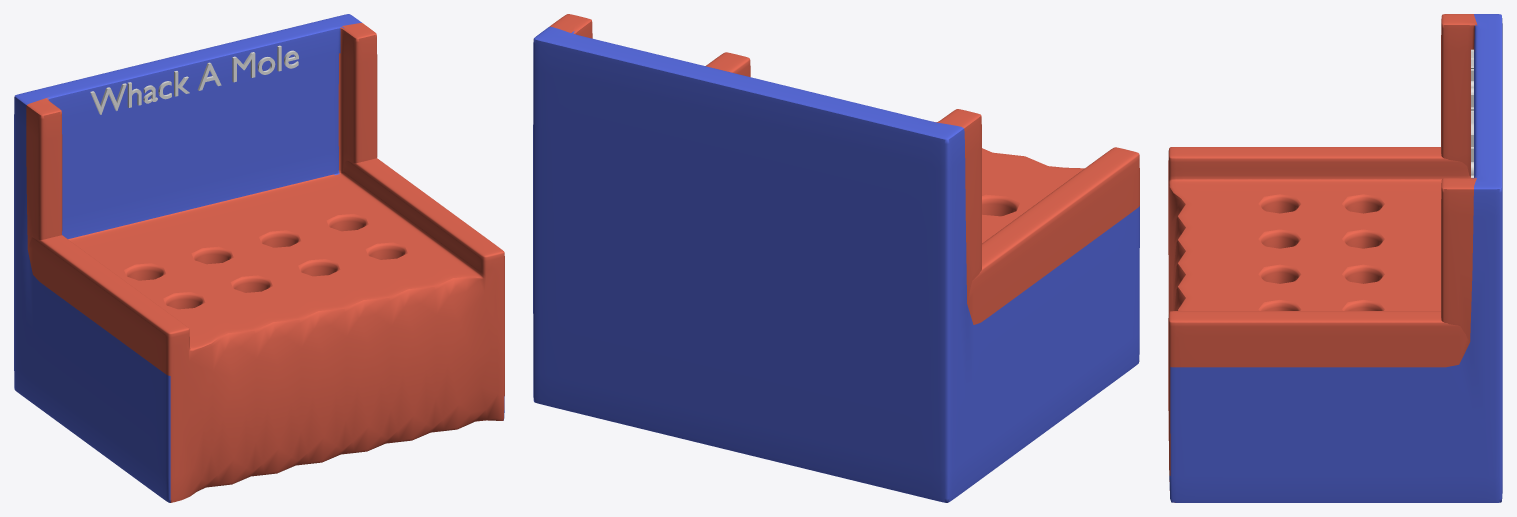
Rendered from whak_a_mole_sans_taupe.fbx.
3 renders of one model, left to right at view 1: azimuth 30°, elevation 25°; view 2: azimuth 150°, elevation 25°; view 3: azimuth 270°, elevation 25°, orthographic. The views are drawn at different scales.
Parts seen in each view (by area): view 1: Cube, Texte; view 2: Cube; view 3: Cube, Texte.
Boxes of the visible parts, x1,y1,x2,y2 form: Cube: (14, 14, 504, 502); Texte: (90, 45, 298, 114); Cube: (533, 14, 1139, 502); Cube: (1168, 14, 1502, 502); Texte: (1471, 49, 1473, 177).
Bounding box in the file's own units: 582 × 468 × 487.
